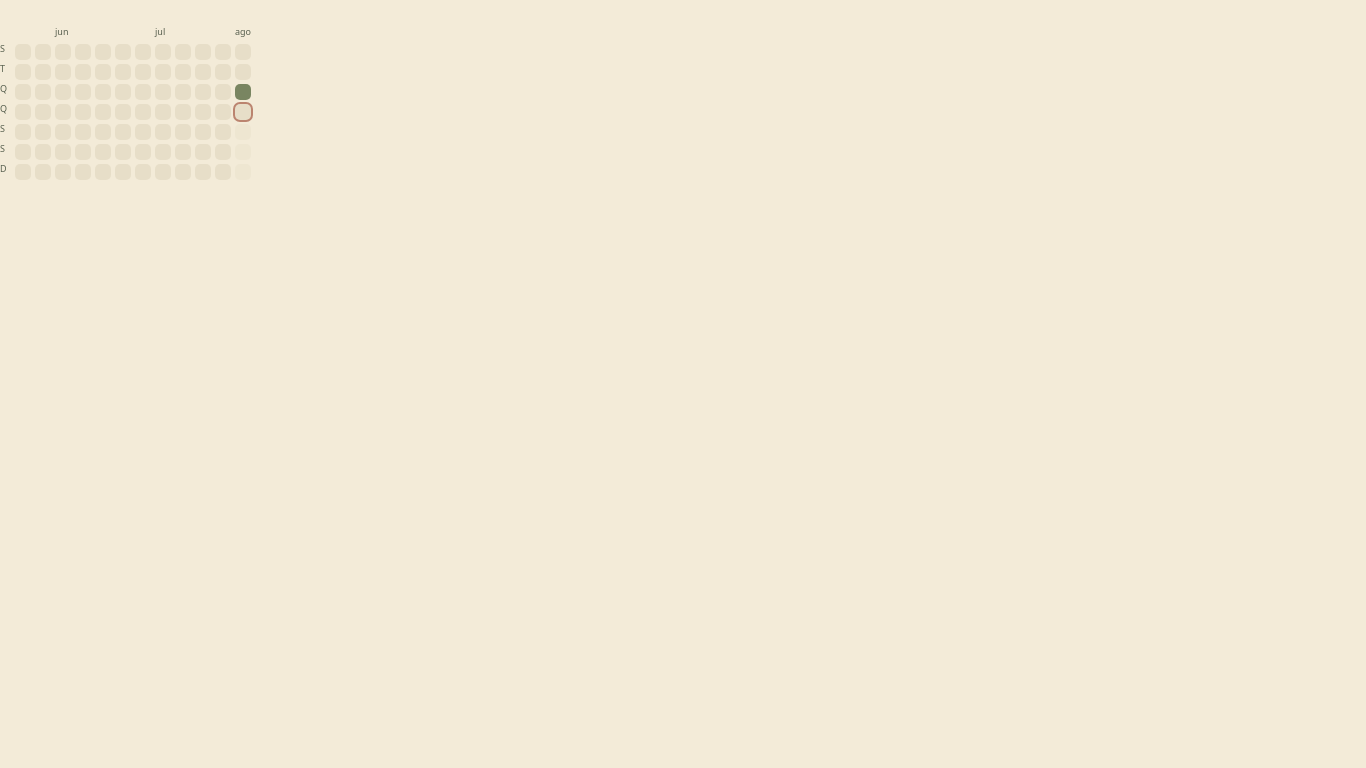
Test: MapaCalor — ordem e formatação do popover no fuso local › preserva ordem e formatação no fuso UTC
Click the button named "05 de ago. — 3 práticas". click: coordinates (243, 92)
box: [235,84,251,100]
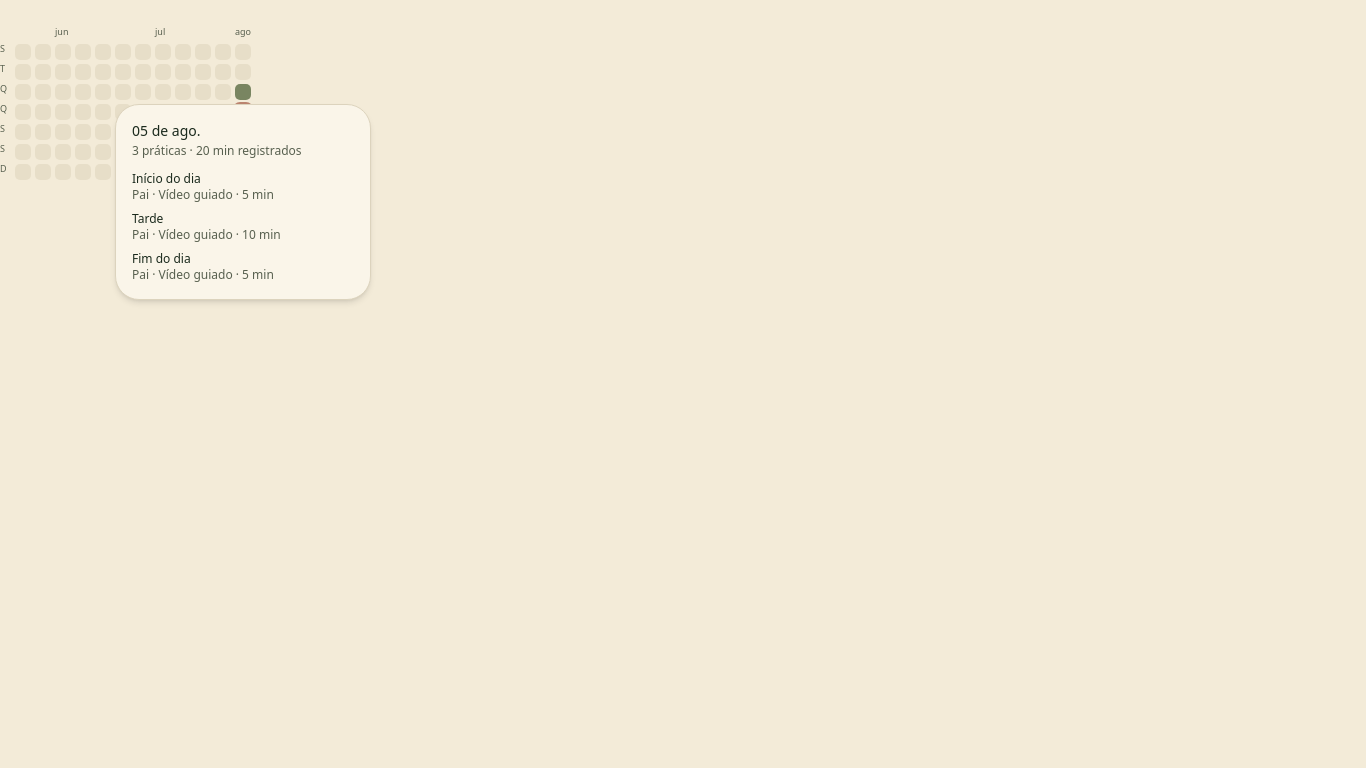
Check: the list item "Início do dia Pai · Vídeo guiado · 5 min" is shown, box [132,170,274,203]
Check: the list item "Tarde Pai · Vídeo guiado · 10 min" is shown, box [132,210,281,243]
Check: the list item "Fim do dia Pai · Vídeo guiado · 5 min" is shown, box [132,250,274,283]
